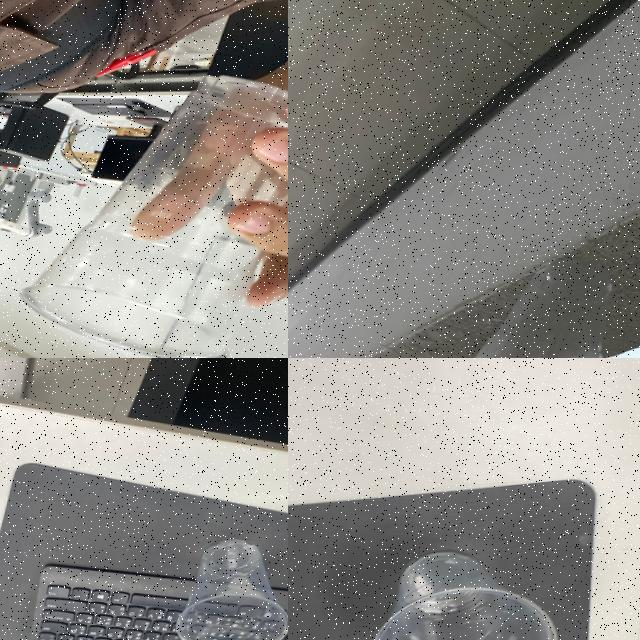glass: (14, 68, 288, 358), (366, 546, 574, 640), (450, 256, 628, 358), (177, 529, 288, 640)
